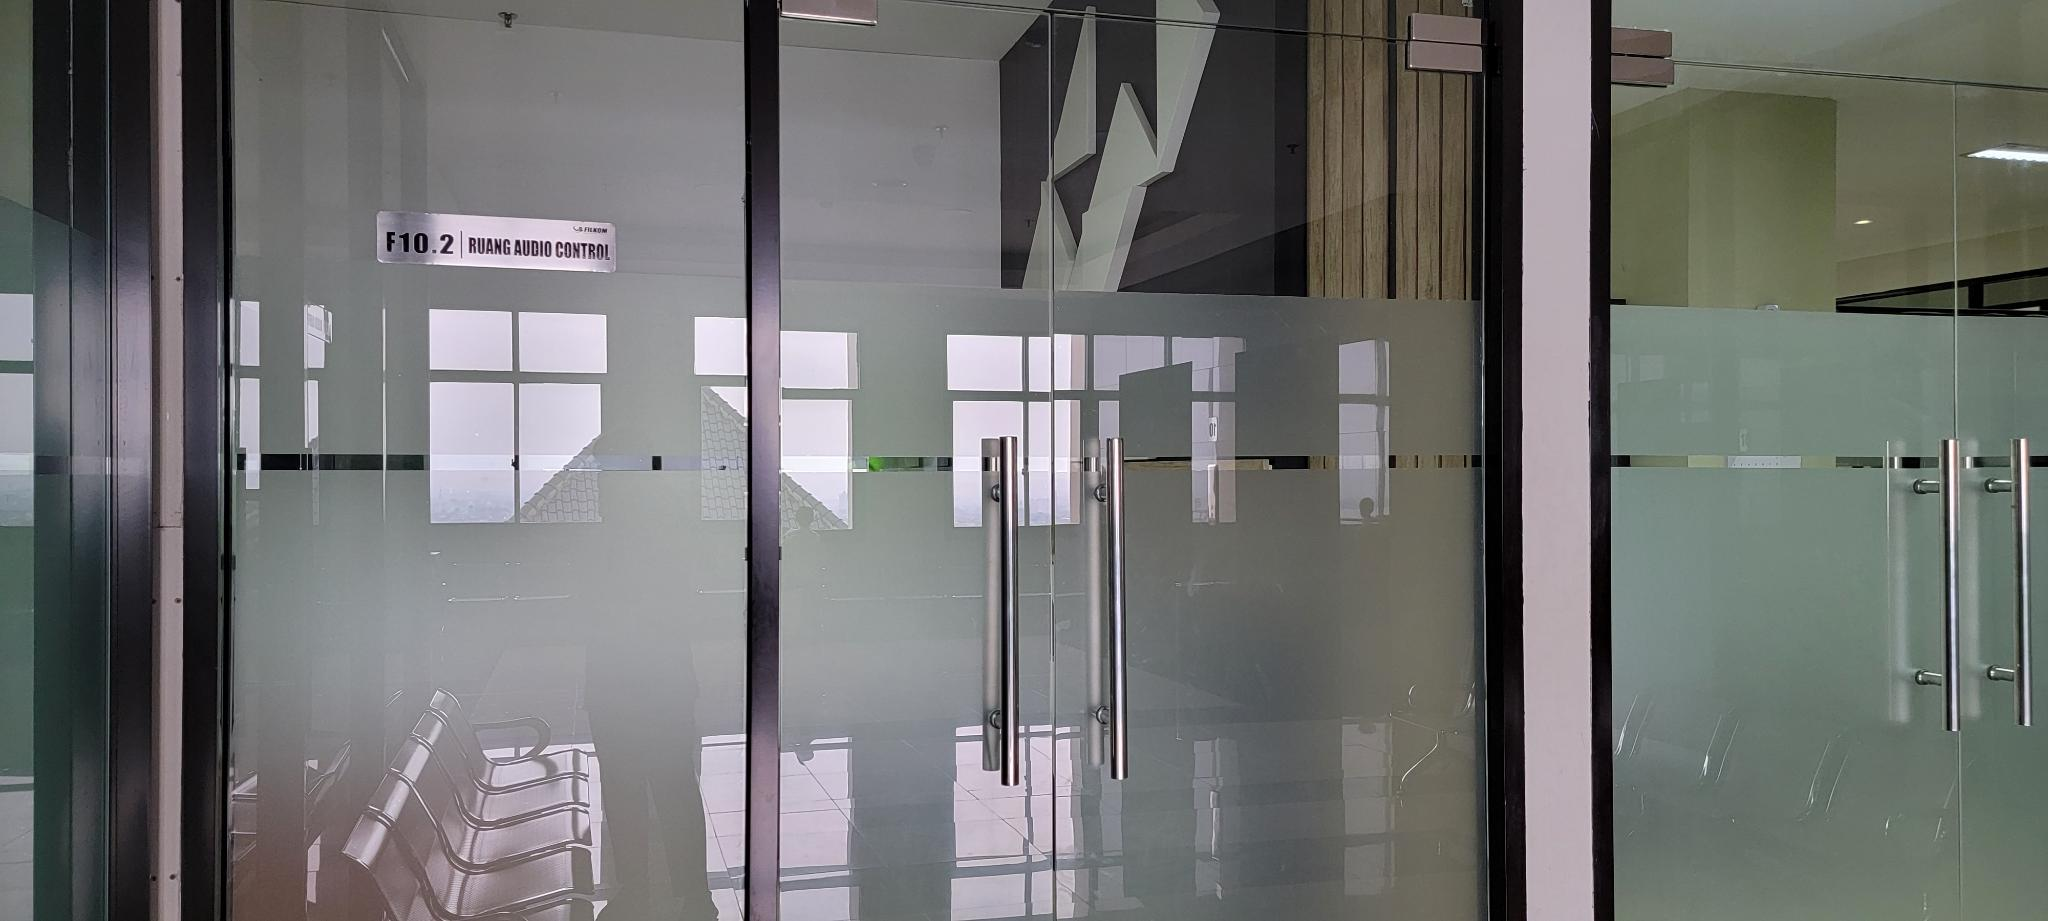plate: (376, 210, 615, 276)
